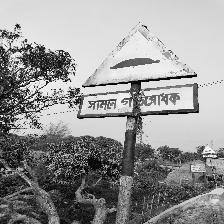Speed-breaker: (80, 22, 200, 117)
